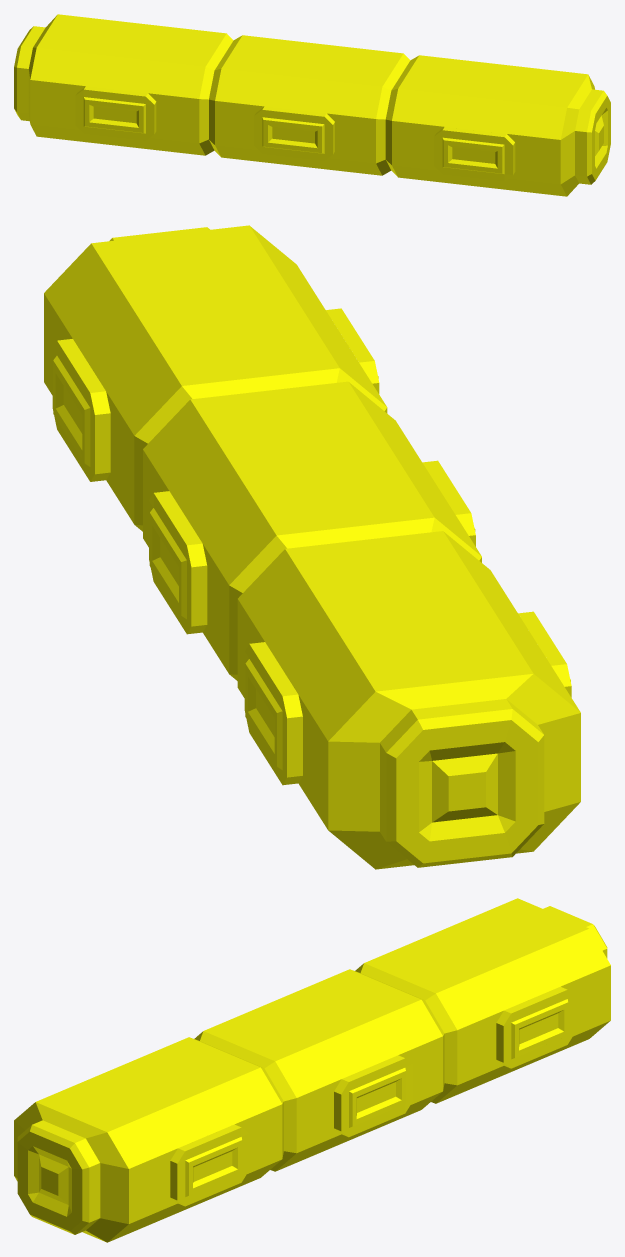
File: kaykit-tunnel-diagonal-long-a.glb
The picture shows the model from 3 angles, top to bottom: view 1: azimuth 30°, elevation 25°; view 2: azimuth 150°, elevation 25°; view 3: azimuth 270°, elevation 25°; orthographic projection. The views are drawn at different scales.
Visible parts, largest first — view 1: tunnel_diagonal_long_A; view 2: tunnel_diagonal_long_A; view 3: tunnel_diagonal_long_A.
Boxes of the visible parts, bbox=[...] form: tunnel_diagonal_long_A: bbox=[14, 14, 610, 196]; tunnel_diagonal_long_A: bbox=[44, 225, 580, 869]; tunnel_diagonal_long_A: bbox=[14, 898, 610, 1242].
Bounding box in the file's own units: 2.94 × 0.5999 × 2.94.
